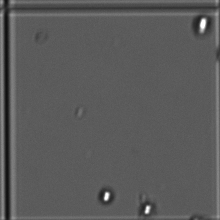Living Cell: (188, 13, 213, 44), (97, 182, 115, 206), (136, 195, 156, 216)
